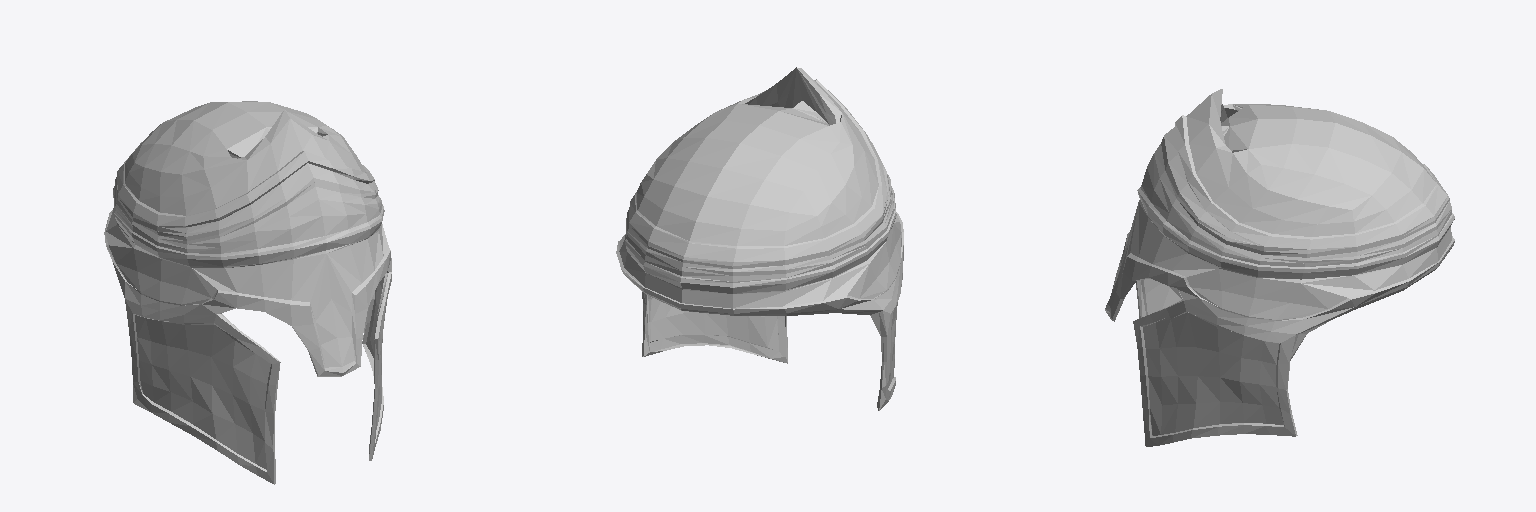
The model's file is HELMET.obj.
The picture shows the model from 3 angles: view 1: azimuth 30°, elevation 25°; view 2: azimuth 150°, elevation 25°; view 3: azimuth 270°, elevation 25°; orthographic projection.
Parts seen in each view (by area): view 1: HELMET; view 2: HELMET; view 3: HELMET.
Part boxes in pixels (left/top/right/bottom): HELMET: left=104, top=101, right=391, bottom=484; HELMET: left=616, top=67, right=903, bottom=410; HELMET: left=1105, top=89, right=1454, bottom=446.
Size of the model in its own units: 0.0002 by 0.0003 by 0.0002.